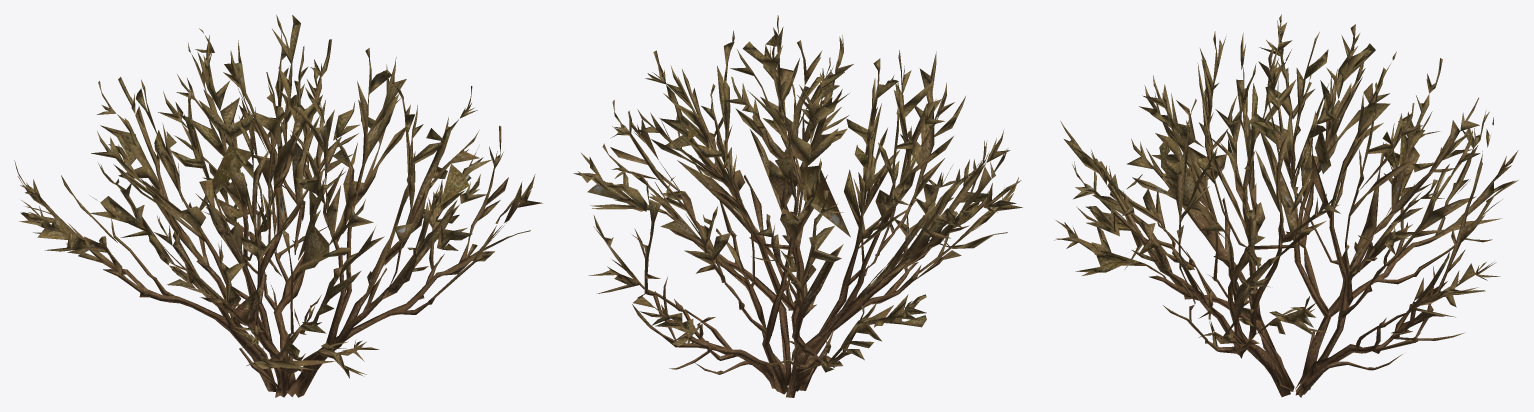
File: shrub.glb
The picture shows the model from 3 angles, left to right: view 1: azimuth 30°, elevation 25°; view 2: azimuth 150°, elevation 25°; view 3: azimuth 270°, elevation 25°; orthographic projection.
Visible parts, largest first — view 1: tripo_node_7582b38d-760b-42d7-b61b-d0407f0bed3e; view 2: tripo_node_7582b38d-760b-42d7-b61b-d0407f0bed3e; view 3: tripo_node_7582b38d-760b-42d7-b61b-d0407f0bed3e.
Part boxes in pixels (x1,y1,x2,y2): tripo_node_7582b38d-760b-42d7-b61b-d0407f0bed3e: (14, 15, 542, 397); tripo_node_7582b38d-760b-42d7-b61b-d0407f0bed3e: (573, 15, 1022, 397); tripo_node_7582b38d-760b-42d7-b61b-d0407f0bed3e: (1054, 14, 1518, 397).
Size of the model in its own units: 0.5847 by 0.5 by 0.5847.
Materials: 1 (1 with a texture image).
